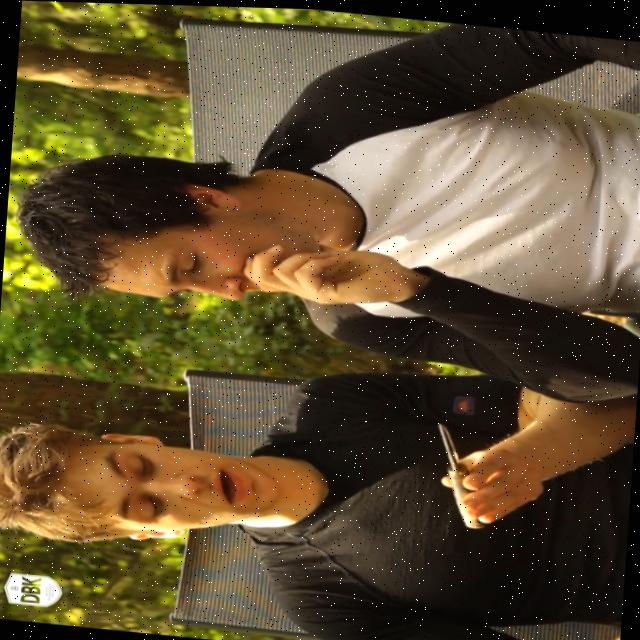knife: (414, 406, 505, 530)
